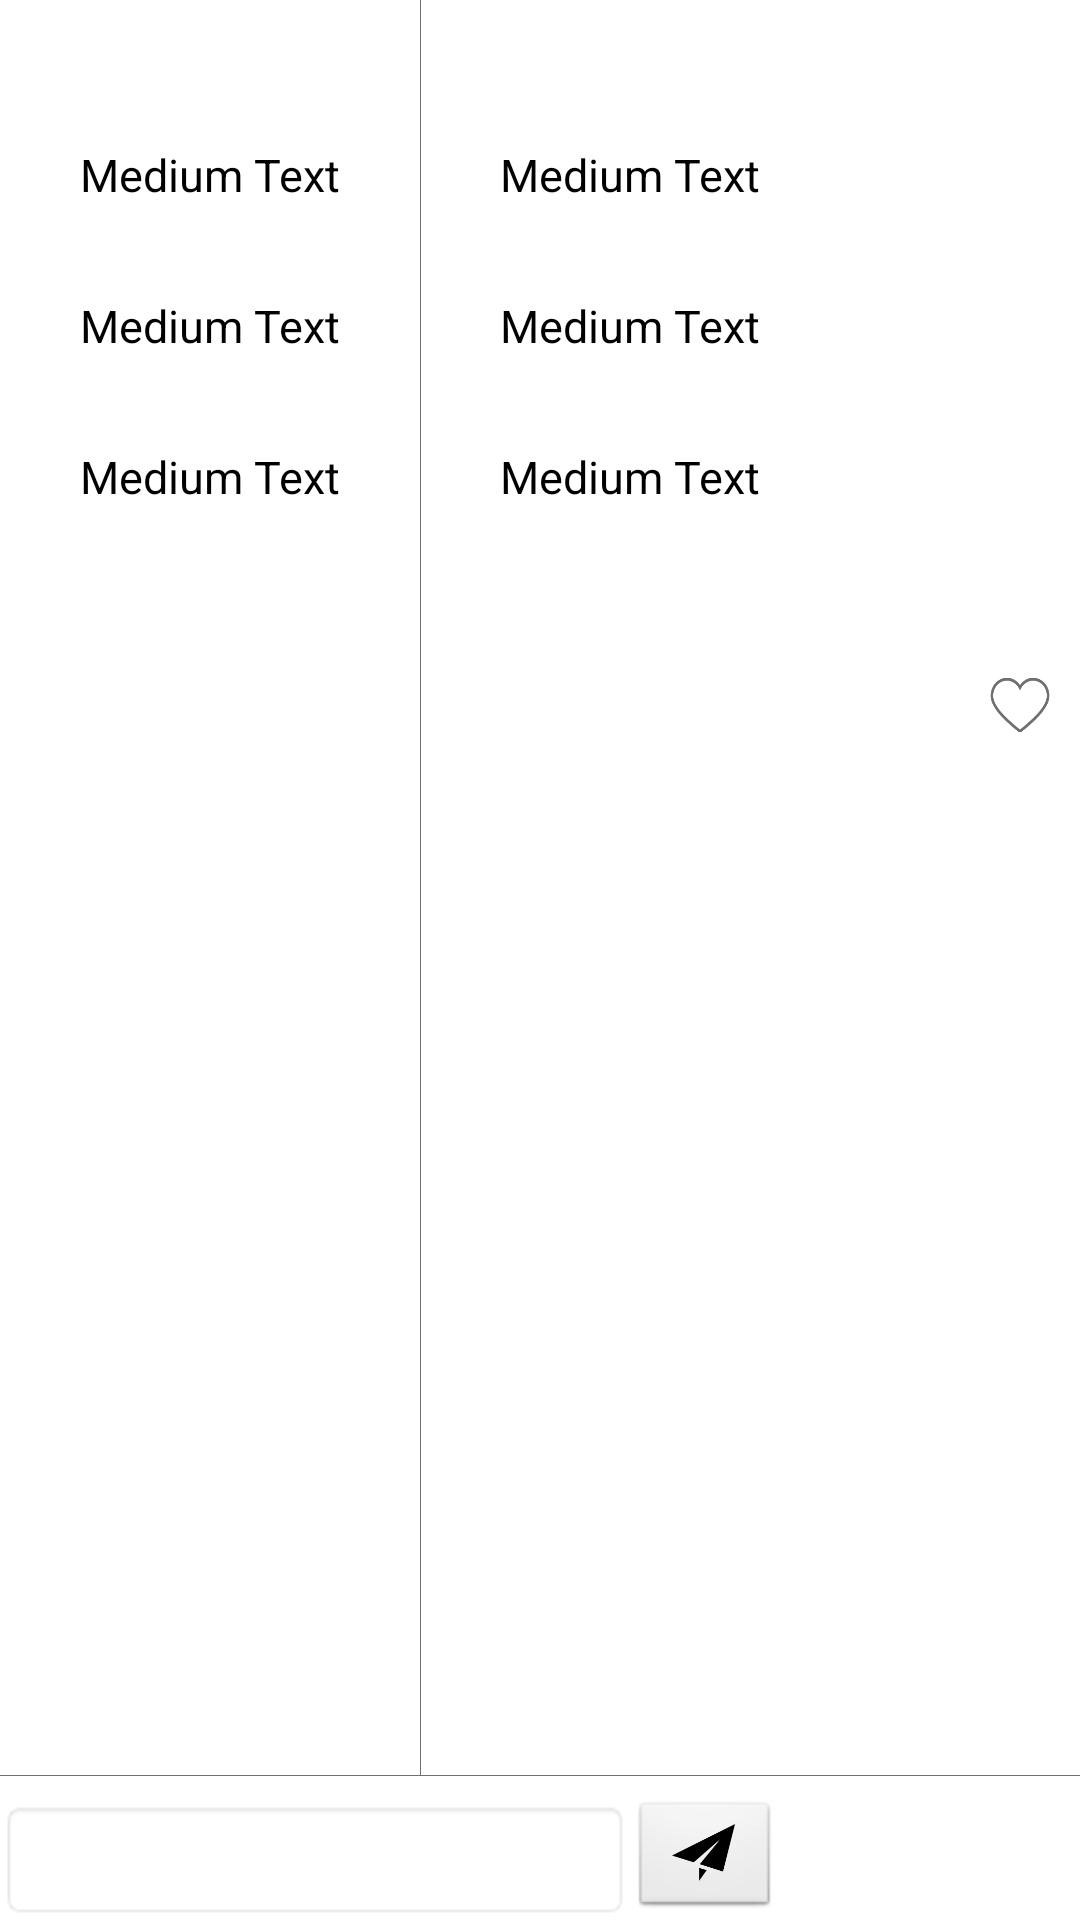

Locate icon controls on the screen. Image size 1080 × 1920, boxes as box(x1, y1, x2, y2).
love like: box(990, 678, 1050, 732)
提交您的评论: box(638, 1802, 771, 1908)
